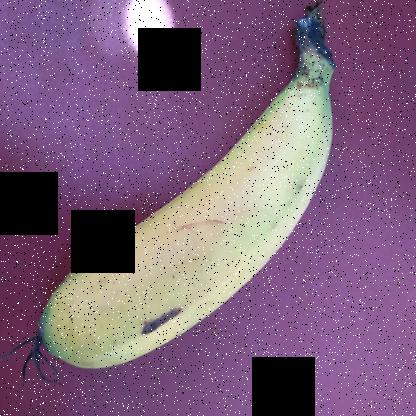ripe: (23, 71, 338, 415)
